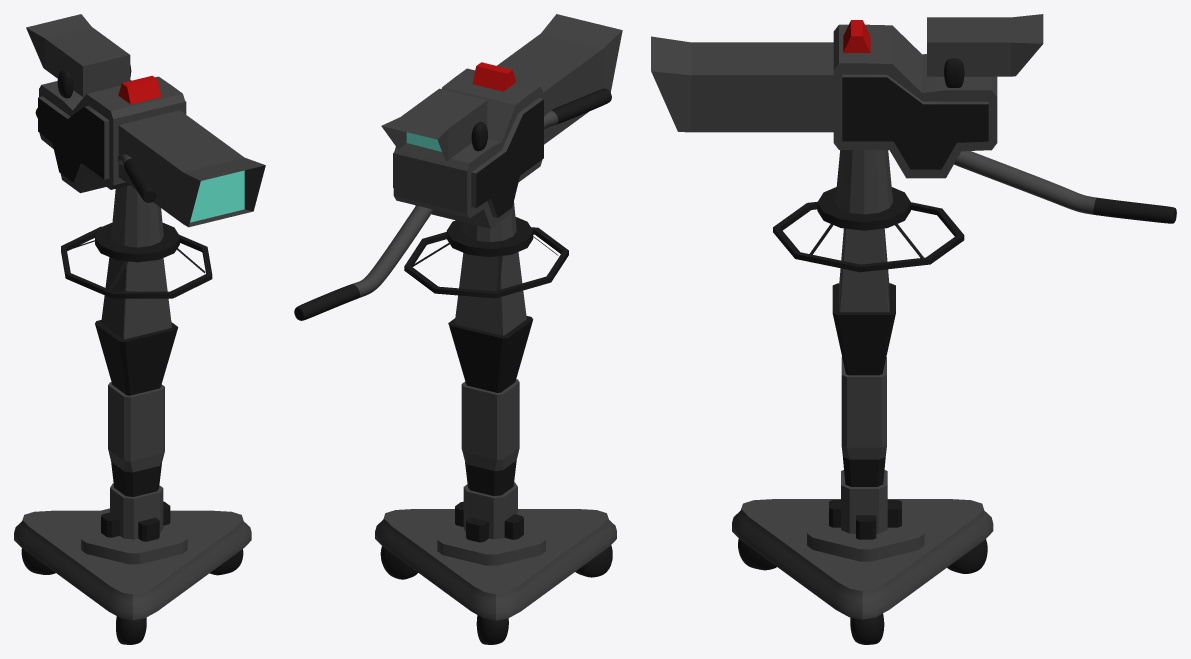
File: camaraTV.FBX
3 views of the same model, side by side, from view 1: azimuth 30°, elevation 25°; view 2: azimuth 150°, elevation 25°; view 3: azimuth 270°, elevation 25° (orthographic). The views are drawn at different scales.
Parts seen in each view (by area): view 1: Box006, Box001, Cylinder001, Box008, Cylinder003, Cylinder002, Cylinder005, Box009, Object001, Sphere003, Box003, Box004 (+3 smaller); view 2: Box006, Box001, Cylinder001, Box008, Cylinder002, Cylinder003, Cylinder004, Cylinder005, Object001, Box009, Sphere002, Sphere001 (+2 smaller); view 3: Box006, Cylinder001, Box001, Box008, Cylinder003, Cylinder004, Cylinder002, Cylinder005, Sphere001, Box009, Sphere002.
Boxes of the visible parts, x1=… form: Box006: x1=38, y1=76, x2=265, y2=227; Box001: x1=95, y1=257, x2=178, y2=539; Cylinder001: x1=14, y1=510, x2=251, y2=620; Box008: x1=26, y1=14, x2=130, y2=97; Cylinder003: x1=67, y1=185, x2=205, y2=289; Cylinder002: x1=81, y1=508, x2=187, y2=564; Cylinder005: x1=61, y1=226, x2=212, y2=298; Box009: x1=118, y1=75, x2=161, y2=104; Object001: x1=117, y1=154, x2=156, y2=202; Sphere003: x1=116, y1=616, x2=146, y2=644; Box003: x1=138, y1=517, x2=159, y2=541; Box004: x1=101, y1=512, x2=119, y2=537; Box006: x1=393, y1=14, x2=622, y2=228; Box001: x1=448, y1=252, x2=533, y2=539; Cylinder001: x1=375, y1=509, x2=616, y2=620; Box008: x1=381, y1=88, x2=487, y2=161; Cylinder002: x1=437, y1=509, x2=545, y2=565; Cylinder003: x1=411, y1=202, x2=558, y2=290; Cylinder004: x1=294, y1=205, x2=433, y2=320; Cylinder005: x1=404, y1=227, x2=568, y2=298; Object001: x1=544, y1=88, x2=611, y2=129; Box009: x1=472, y1=62, x2=516, y2=91; Sphere002: x1=476, y1=615, x2=508, y2=644; Sphere001: x1=380, y1=546, x2=417, y2=579; Box006: x1=651, y1=24, x2=997, y2=178; Cylinder001: x1=732, y1=499, x2=993, y2=619; Box001: x1=832, y1=228, x2=895, y2=533; Box008: x1=927, y1=14, x2=1043, y2=76; Cylinder003: x1=809, y1=150, x2=929, y2=257; Cylinder004: x1=954, y1=151, x2=1176, y2=223; Cylinder002: x1=807, y1=499, x2=924, y2=561; Cylinder005: x1=773, y1=201, x2=964, y2=272; Sphere001: x1=850, y1=613, x2=884, y2=644; Box009: x1=843, y1=20, x2=870, y2=52; Sphere002: x1=947, y1=539, x2=987, y2=573.
Bounding box in the file's own units: 21.22 × 56.55 × 47.46.
